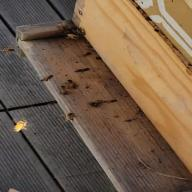Bee: (36, 72, 62, 85), (14, 117, 31, 135), (0, 44, 23, 57), (63, 112, 87, 120)
